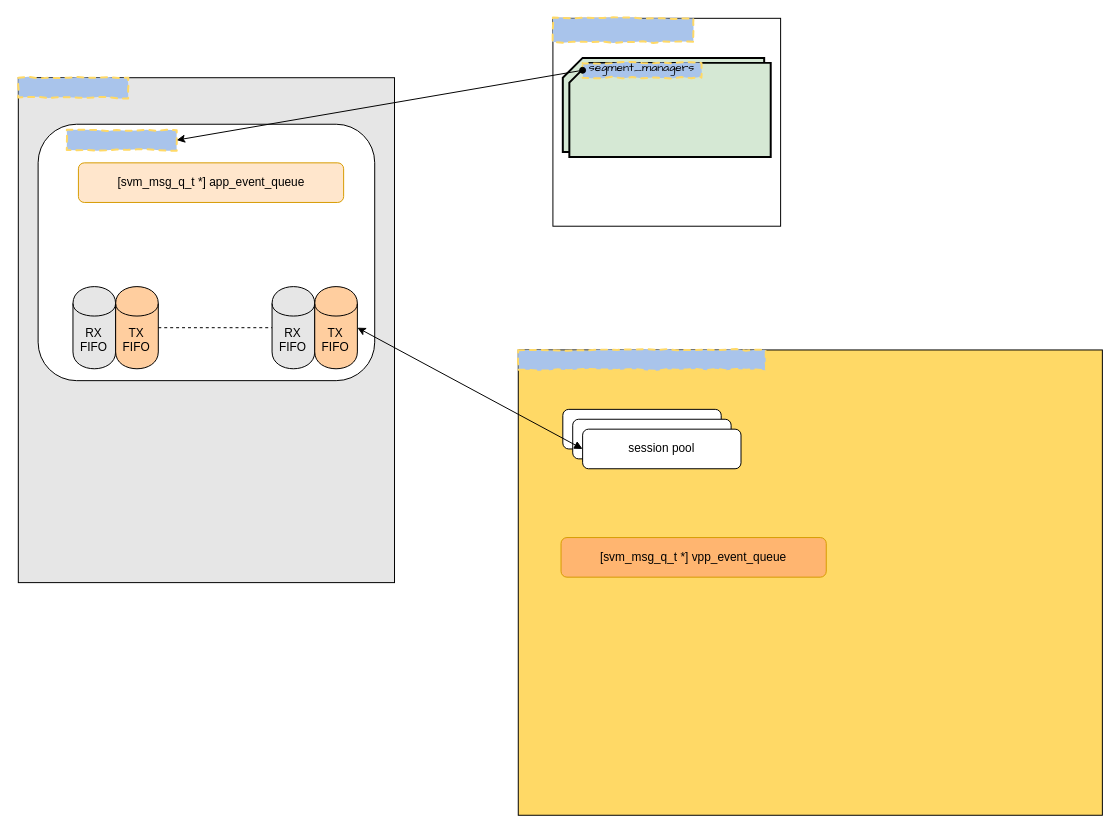
Image size: 1120x833. Some labels were removed from this diagram. The centre of each missing label's shape, as x and y in pixels:
"first segment" goes at [121,139].
"segment_manager_main" goes at [622,30].
"Share Memory" goes at [73,87].
"vpp thread / vpp worker / session worker" goes at [641,359].
